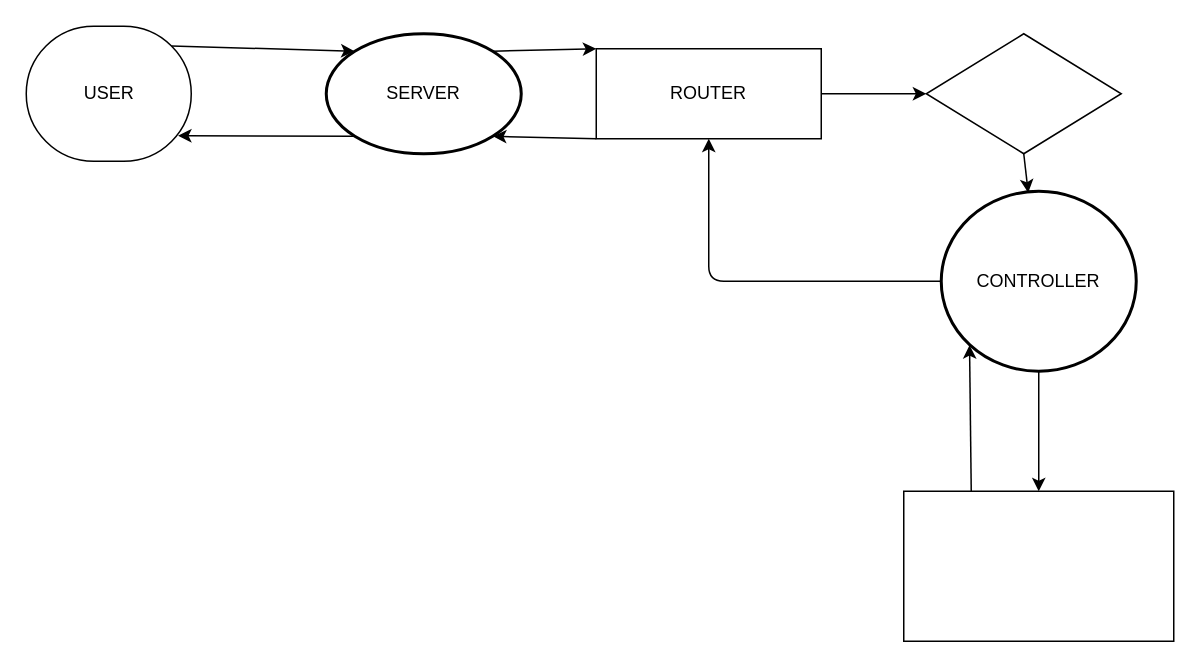
The diagram is 1200 pixels wide and 668 high, and some of its shapes have lost their labels. Each missing label, with the centre of its shape:
MIDDLEWARE: point (1023, 93)
POSTGRES DATABASE: point (1038, 565)
